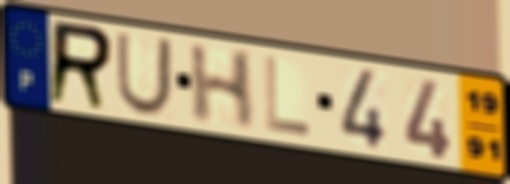4: (401, 74, 455, 163), (338, 67, 389, 152)
H: (187, 42, 257, 132)
L: (262, 53, 314, 140)
R: (44, 17, 117, 114)
U: (113, 30, 176, 119)
